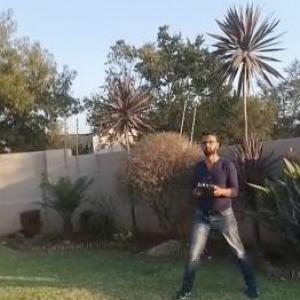follow: (172, 121, 266, 299)
